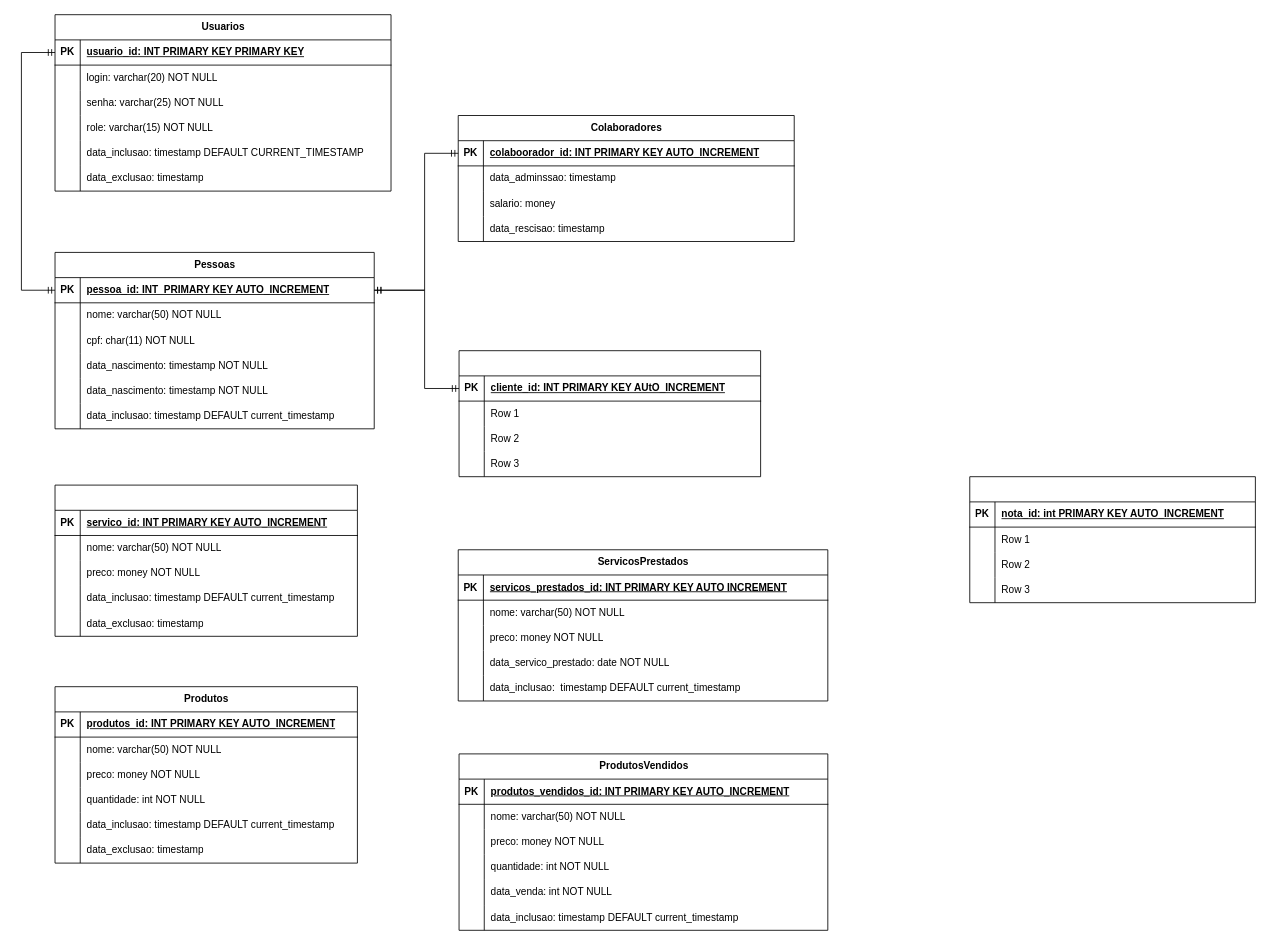
This 1270x945 diagram has some shape labels left out. Each missing label, with the box of its shape:
Clientes: (458, 350, 761, 477)
Notas: (969, 476, 1255, 603)
Servicos: (54, 484, 357, 636)
